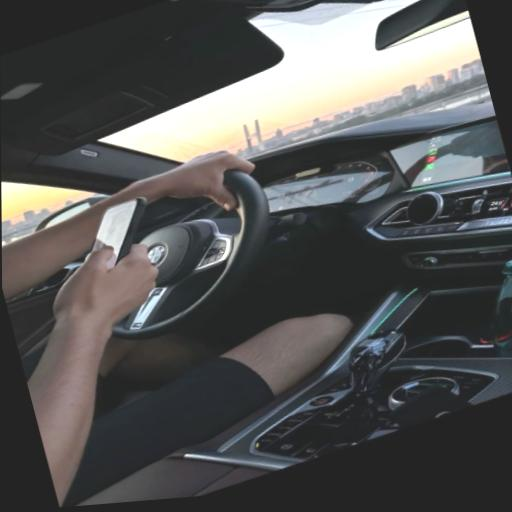Hands-on-the-Wheel: (130, 109, 305, 235)
